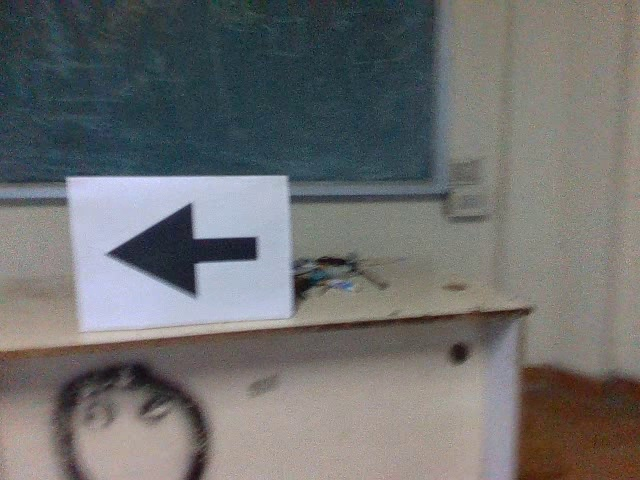Left: (98, 194, 265, 301)
